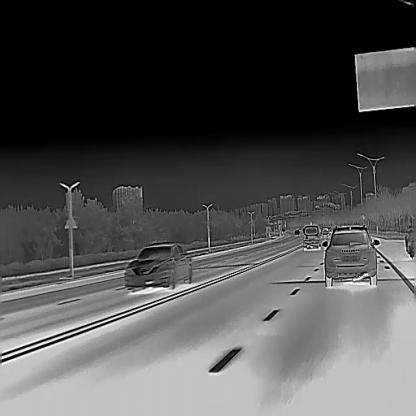car: (321, 224, 380, 287), (123, 239, 193, 291), (302, 225, 321, 250), (404, 223, 415, 257), (319, 227, 330, 237), (293, 228, 301, 236)
